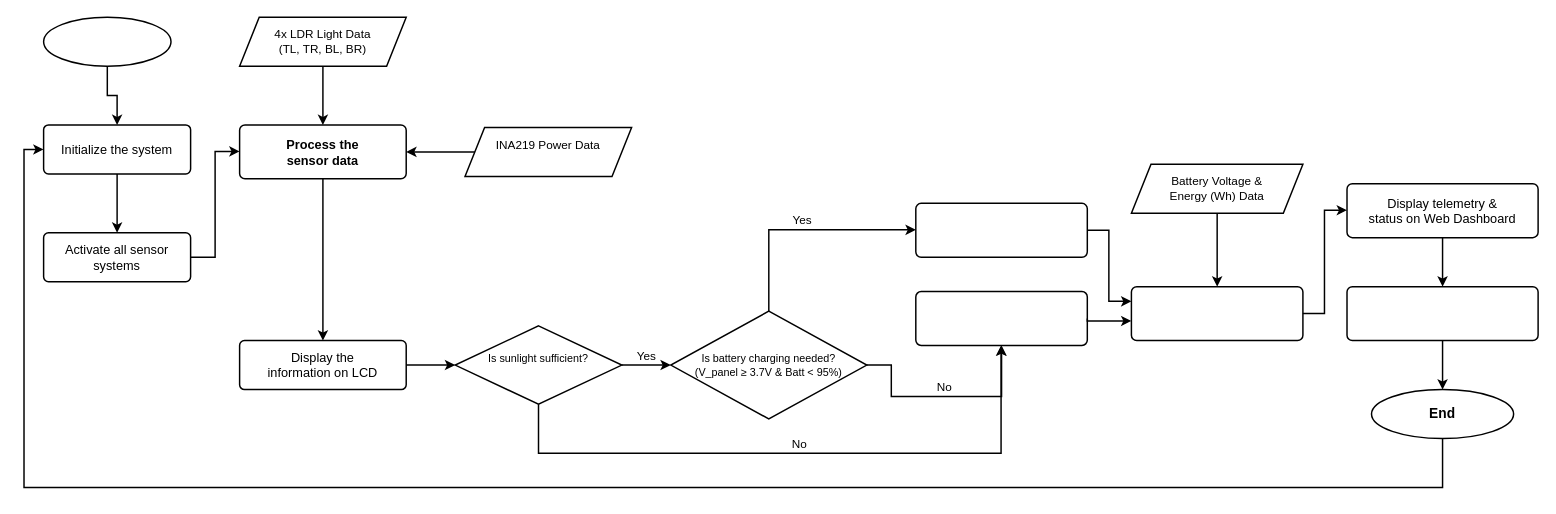
The diagram is 1556 pixels wide and 514 high, and some of its shapes have lost their labels. The centre of each missing label's shape, as x and y in pixels:
"Process the system data" goes at (x=1216, y=313).
"Send the channel data to Firebase RTDB" goes at (x=1442, y=313).
"Start" goes at (x=106, y=41).
"Turn the relay OFF (Stop Charging)" goes at (x=1001, y=318).
"Turn the relay ON (TP4056 Charging)" goes at (x=1001, y=230).
